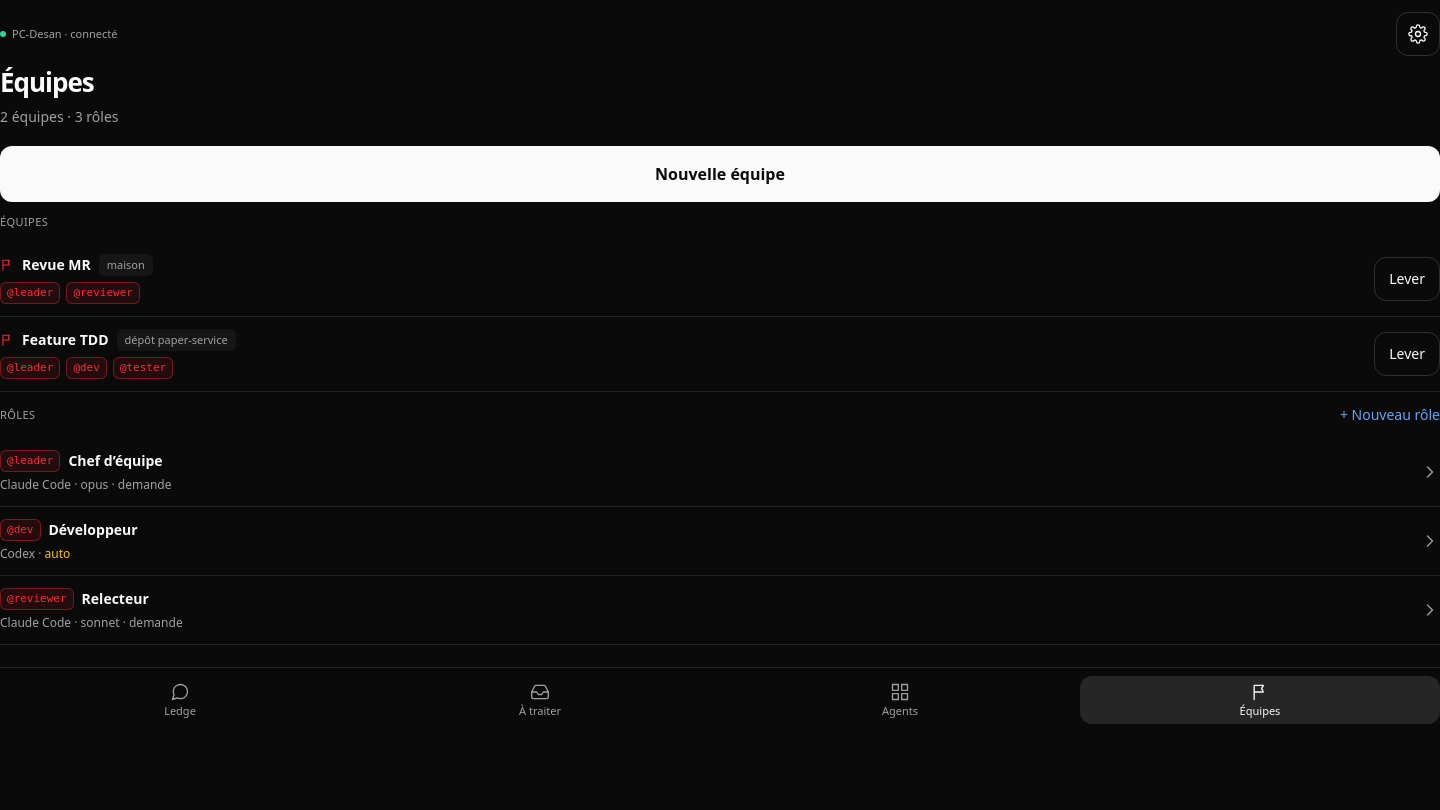
Test case: the Équipes tab › « Lever » on the Dépôt team preselects its project, and confirming launches the template with its own seats
Click the button with aria-label "Lever Feature TDD" at (1407, 354), box top-left (1374, 332), bottom-right (1439, 376)
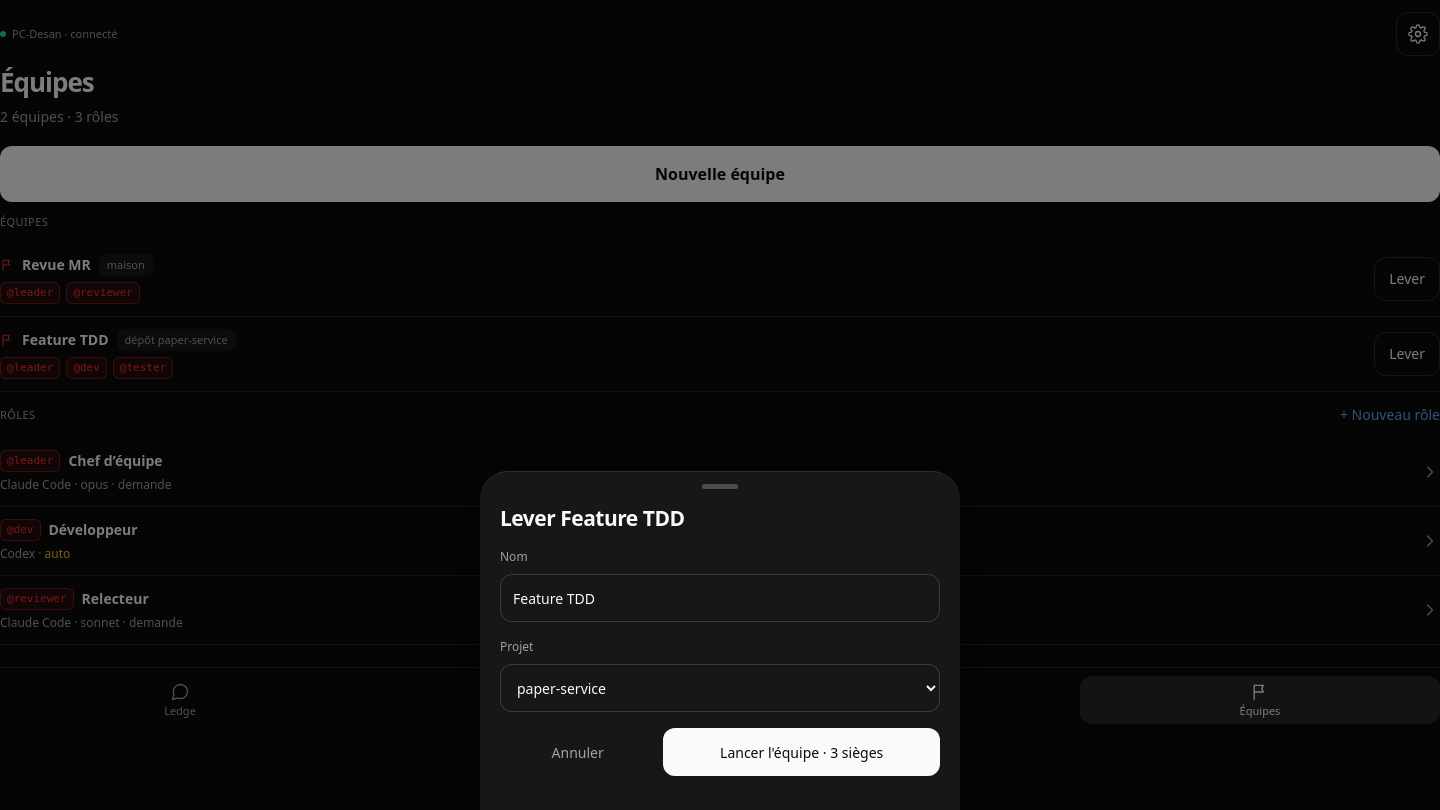
Now the dropdown labelled "Projet" shows "paper-service", box top-left (500, 664), bottom-right (940, 712)
Now the field labelled "Nom" holds "Feature TDD", box top-left (500, 574), bottom-right (940, 622)
Click the button "Lancer l'équipe · 3 sièges" at (802, 752), box top-left (663, 728), bottom-right (940, 776)
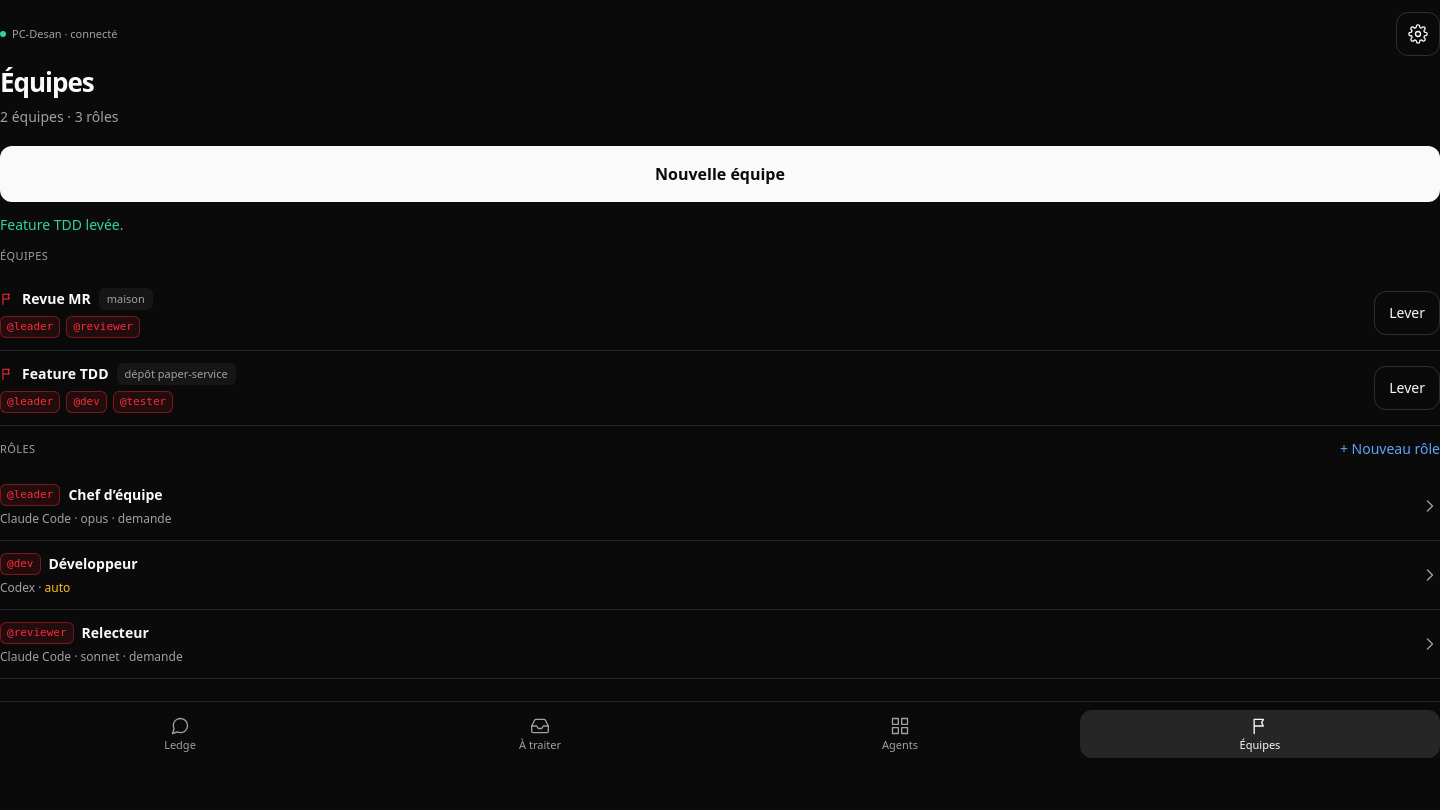
Now the dialog is gone
Now the message shows "Feature TDD levée", box top-left (0, 215), bottom-right (124, 234)
